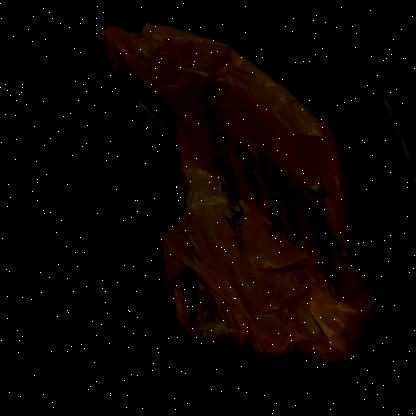Others: (100, 21, 370, 364)
